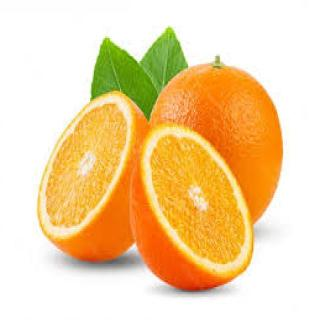orange: (130, 32, 294, 224), (22, 77, 152, 305), (111, 116, 265, 308)
